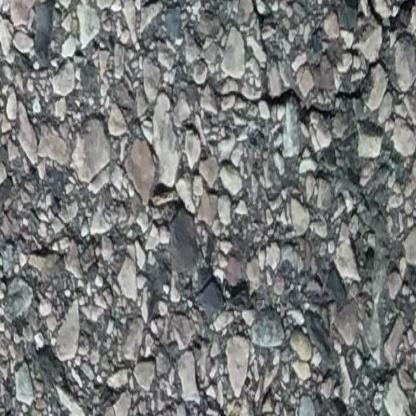Cracks: (0, 0, 416, 140)
